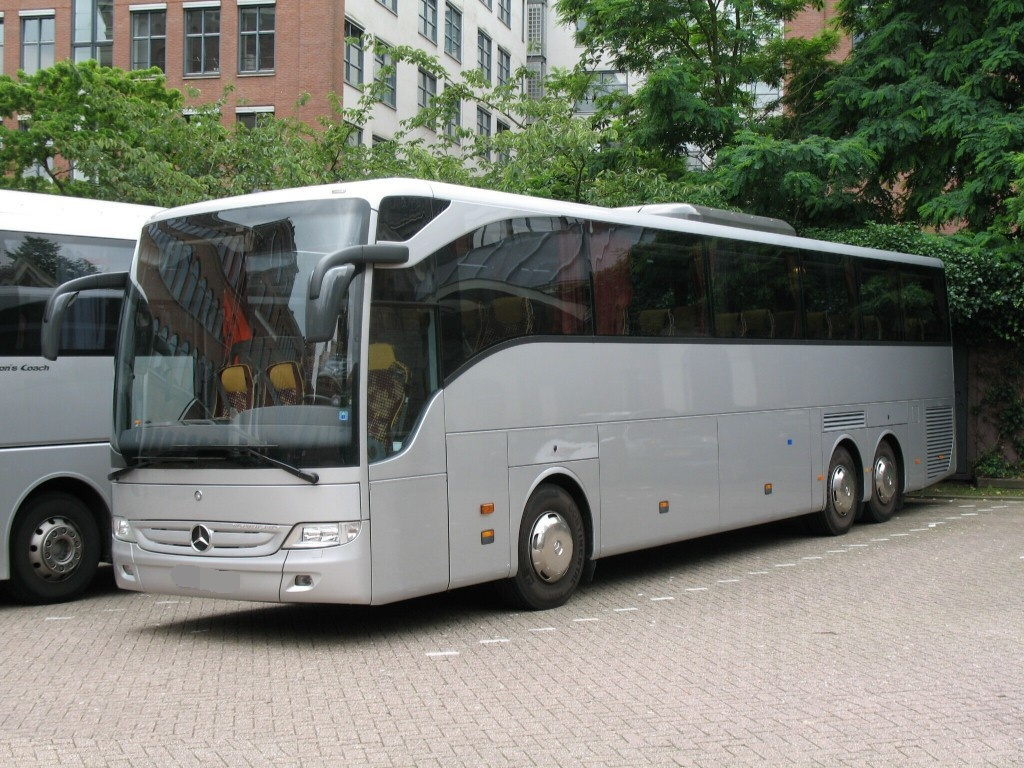bus: (51, 178, 986, 606)
